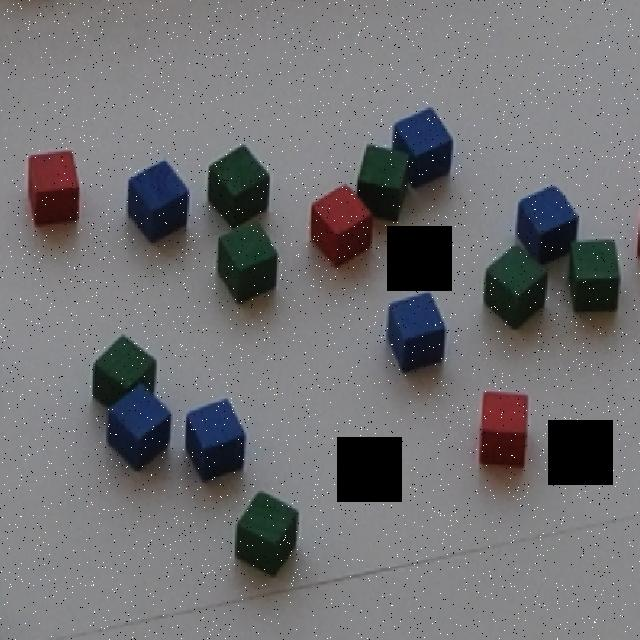bluecube: (109, 385, 174, 474), (124, 160, 187, 242), (515, 184, 578, 266), (393, 106, 454, 189), (186, 396, 244, 482), (387, 293, 447, 371)
green cube: (479, 245, 548, 329), (204, 145, 270, 229), (234, 490, 298, 576), (216, 220, 277, 308), (89, 333, 157, 407), (356, 145, 409, 222), (566, 236, 619, 311)
red cube: (308, 184, 374, 266), (24, 150, 81, 228), (478, 388, 530, 468)
